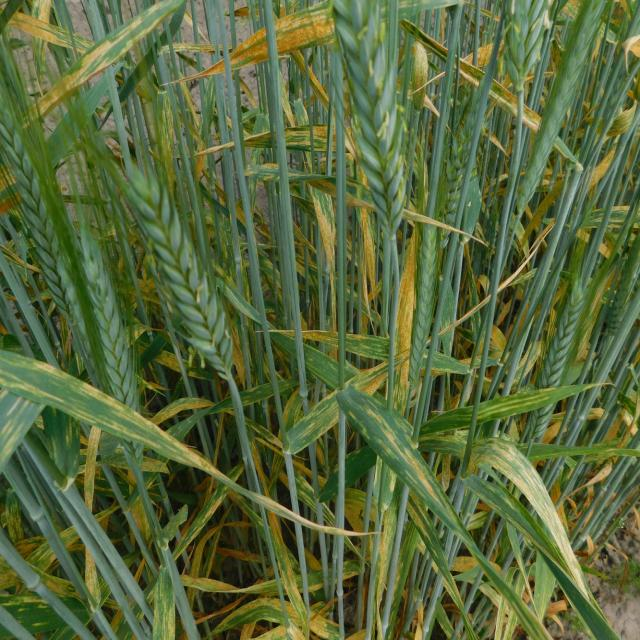wheat-yellowrust: (0, 349, 241, 490)
